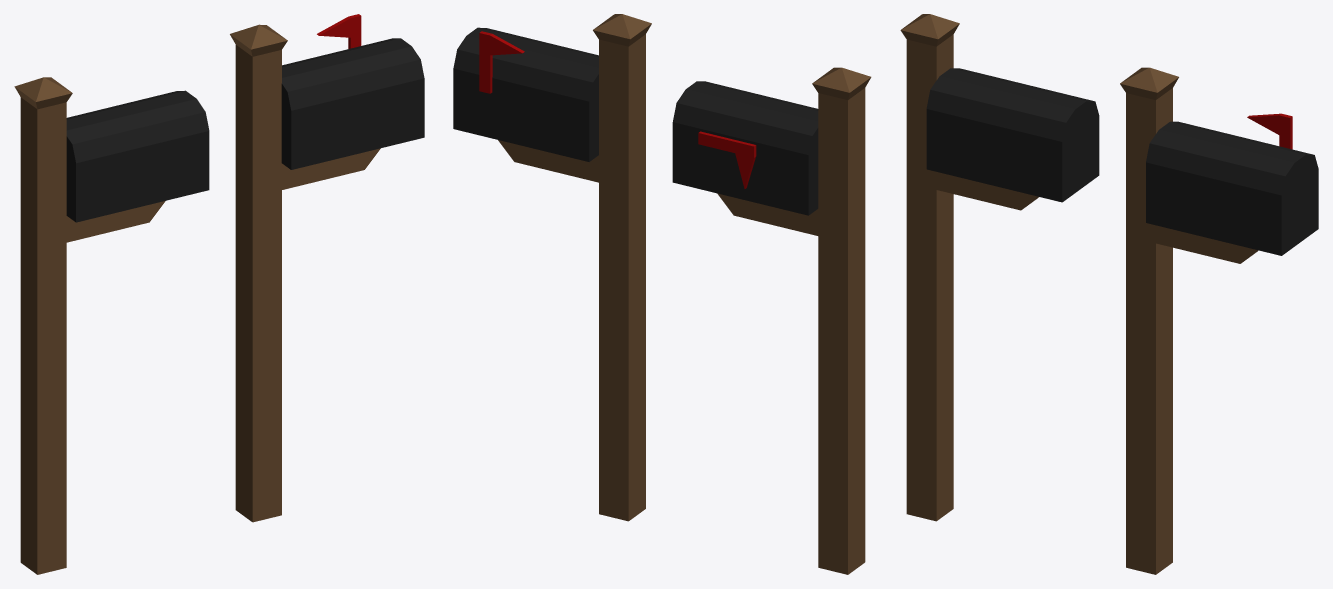
File: mailbox.fbx
3 renders of one model, left to right at view 1: azimuth 30°, elevation 25°; view 2: azimuth 150°, elevation 25°; view 3: azimuth 330°, elevation 25°, orthographic.
Parts seen in each view (by area): view 1: Mailbox, Mailbox_; view 2: Mailbox_, Mailbox; view 3: Mailbox, Mailbox_.
Boxes of the visible parts, x1=… form: Mailbox: x1=230, y1=14, x2=424, y2=522; Mailbox_: x1=14, y1=77, x2=209, y2=574; Mailbox_: x1=672, y1=67, x2=871, y2=574; Mailbox: x1=453, y1=14, x2=651, y2=521; Mailbox: x1=1120, y1=67, x2=1318, y2=574; Mailbox_: x1=900, y1=14, x2=1099, y2=521.
Size of the model in its own units: 177 by 217 by 30.68.
